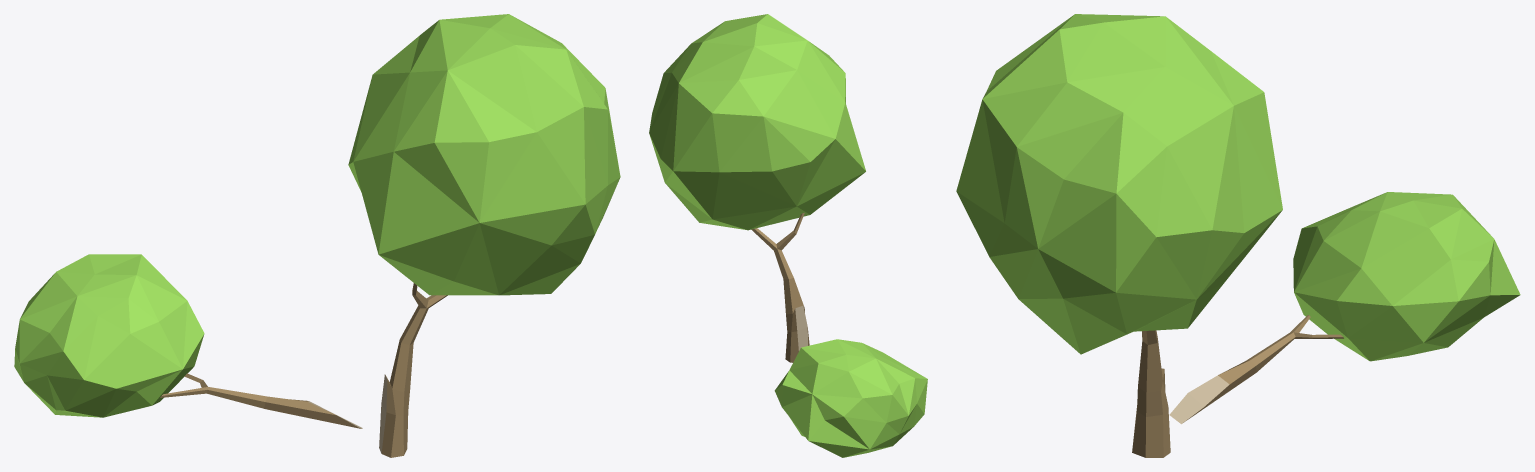
File: Apple_Tree_crk_m_03_LOD.fbx
The picture shows the model from 3 angles, left to right: view 1: azimuth 30°, elevation 25°; view 2: azimuth 150°, elevation 25°; view 3: azimuth 270°, elevation 25°; orthographic projection. The views are drawn at different scales.
Parts seen in each view (by area): view 1: Apple_Tree_crk_m_03_LOD0; view 2: Apple_Tree_crk_m_03_LOD0; view 3: Apple_Tree_crk_m_03_LOD0.
Boxes of the visible parts, box(x1,y1,x2,y2) form: Apple_Tree_crk_m_03_LOD0: box(14, 14, 620, 457); Apple_Tree_crk_m_03_LOD0: box(649, 14, 927, 457); Apple_Tree_crk_m_03_LOD0: box(956, 14, 1520, 457).
Size of what is drawn, in the model's own units: 827 by 721 by 784.
